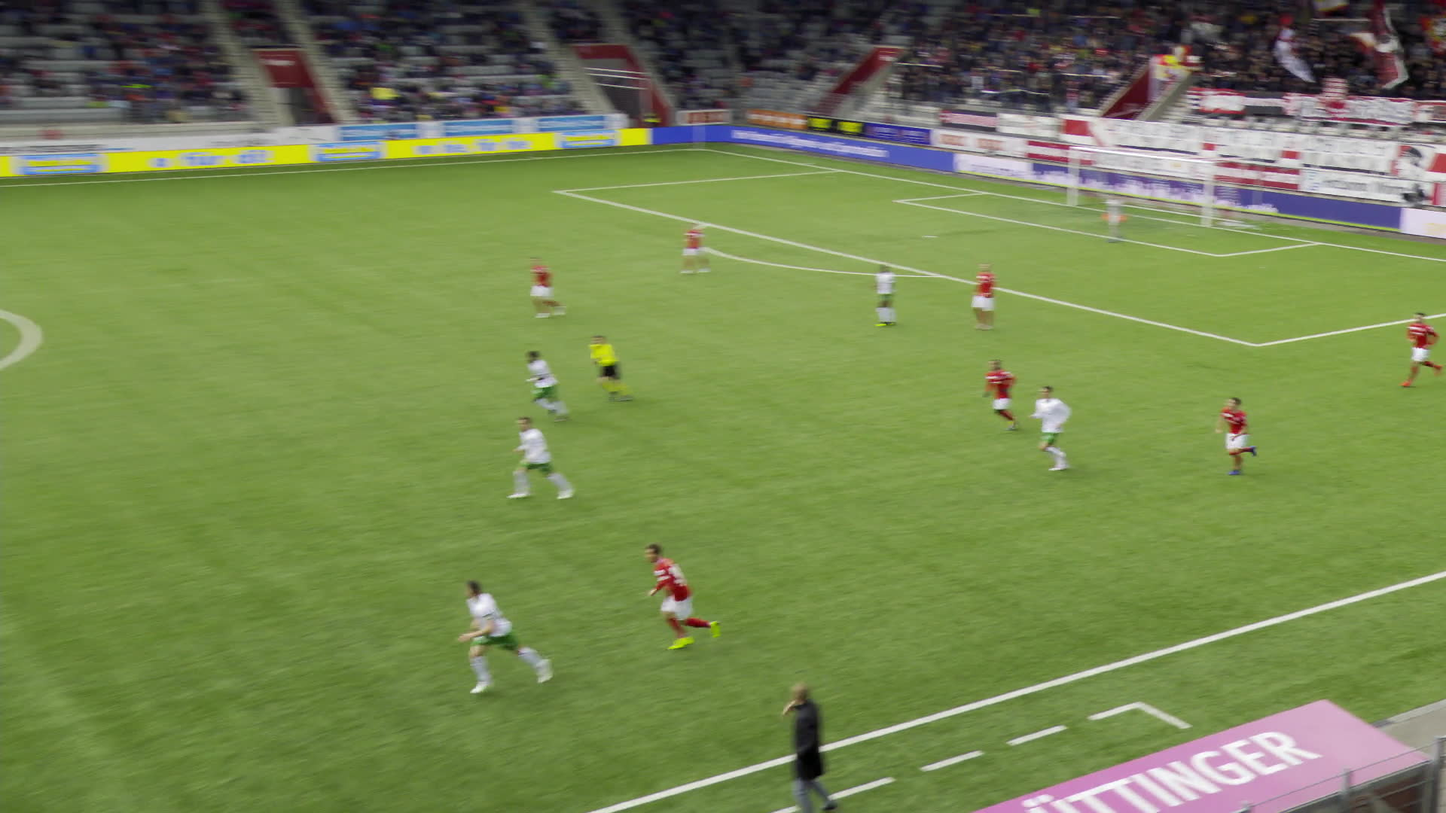player: (446, 583, 535, 696), (642, 541, 723, 653), (506, 414, 577, 503), (1018, 383, 1066, 476), (1213, 394, 1261, 475), (523, 349, 572, 425), (966, 360, 1011, 437), (1386, 309, 1426, 385), (514, 256, 554, 318), (957, 261, 990, 333), (681, 222, 713, 276), (865, 263, 889, 330), (1086, 193, 1115, 242)
referee: (586, 333, 639, 407)
